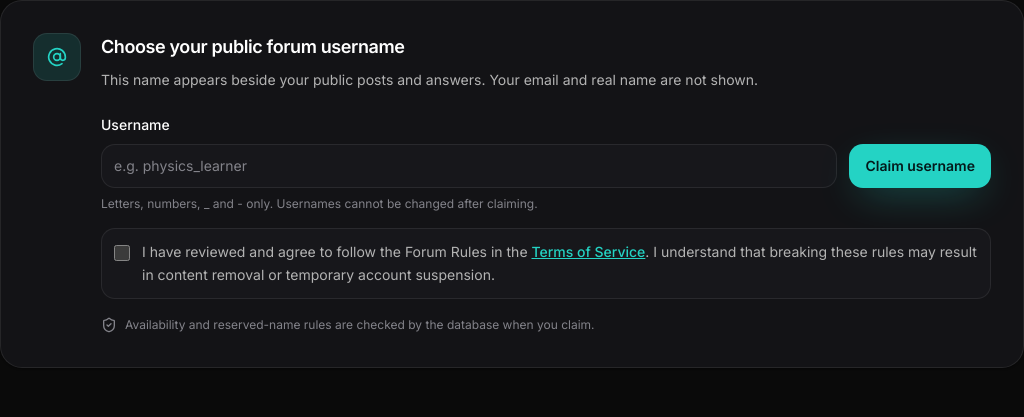
forum username claim › requires the approved Forum Rules acknowledgement before the RPC
Type "physics-helper" into the field labelled "Username".
click(469, 166); type("physics-helper")  # box [101,144,838,188]
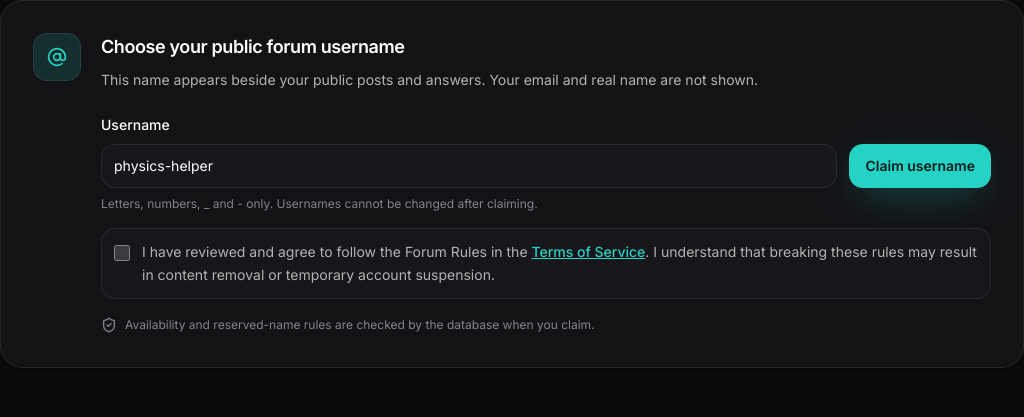
Submit the form "Claim username", box [101,112,991,299]
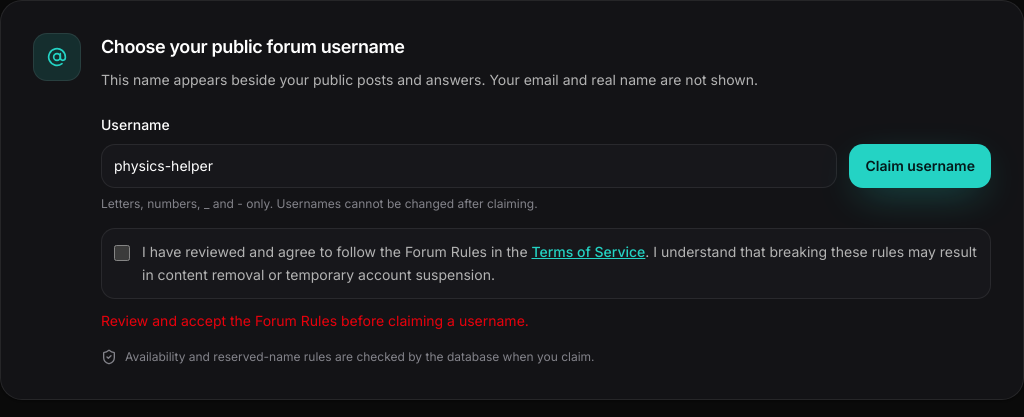
Expected: the message shows "accept the Forum Rules", [101,312,529,329]
